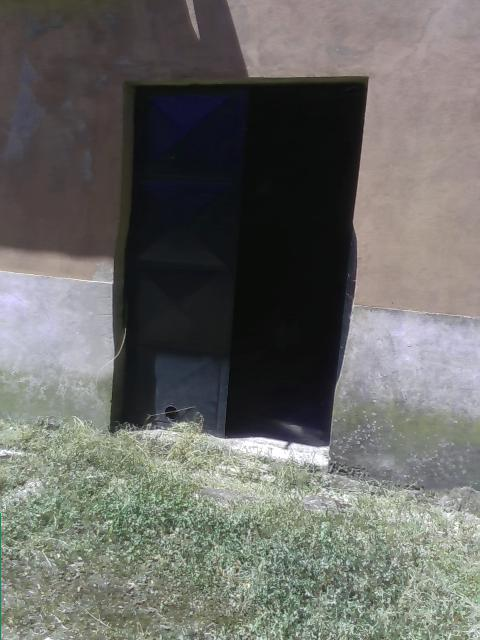open_door: (110, 73, 372, 463)
